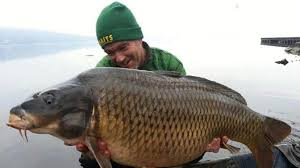carp: (6, 67, 292, 168)
